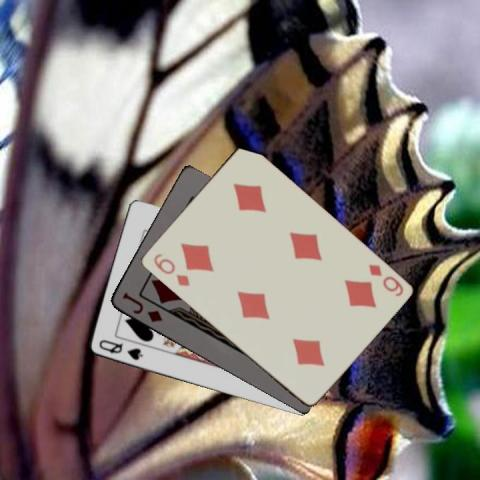6d: (150, 250, 191, 288), (364, 261, 404, 298)
Jd: (119, 289, 163, 324)
Qs: (95, 337, 144, 362)
